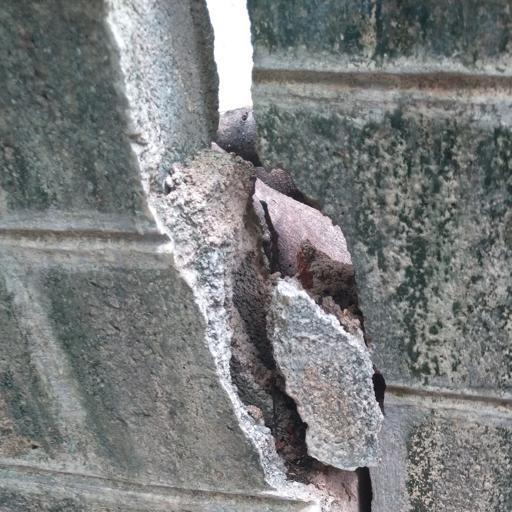major_crack: (98, 0, 406, 512)
